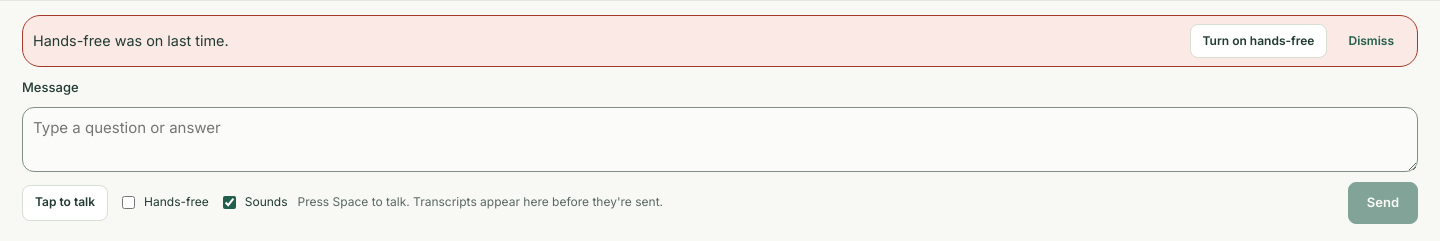
voice polish › remembered hands-free is offered, never switched on without a tap
Expected: the text "Hands-free was on last time." is shown, [33, 32, 229, 49]
Click the button "Turn on hands-free" at [1258, 41], box [1190, 24, 1327, 58]
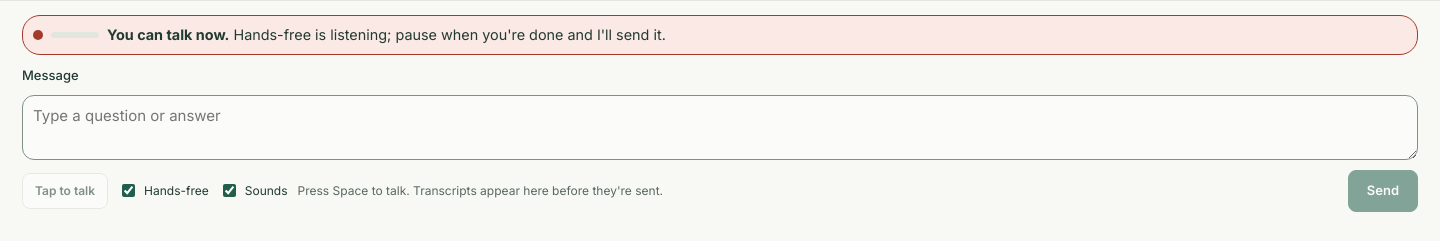
Expected: the switch labelled "Hands-free" is checked, [122, 184, 135, 198]
